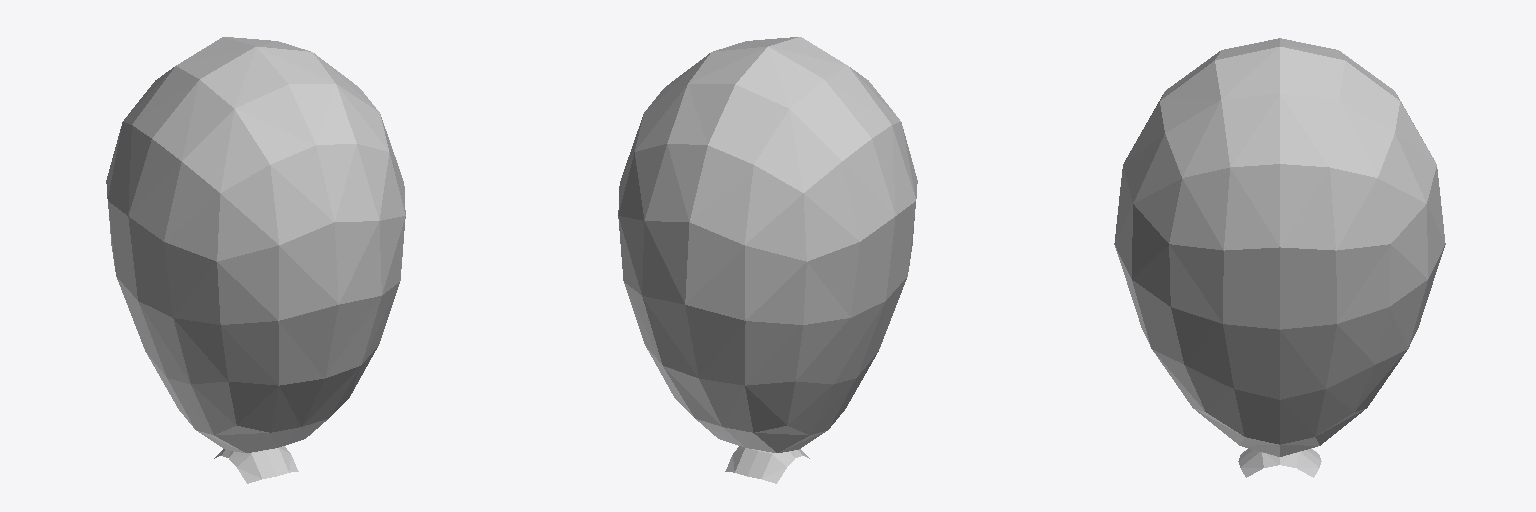
File: ballon.obj
The picture shows the model from 3 angles: view 1: azimuth 30°, elevation 25°; view 2: azimuth 150°, elevation 25°; view 3: azimuth 270°, elevation 25°; orthographic projection.
Visible parts, largest first — view 1: pCube295; view 2: pCube295; view 3: pCube295.
Boxes of the visible parts, x1=… form: pCube295: x1=106, y1=37, x2=405, y2=483; pCube295: x1=618, y1=37, x2=917, y2=483; pCube295: x1=1114, y1=38, x2=1445, y2=477.
Size of the model in its own units: 1.42 by 2.23 by 1.6.